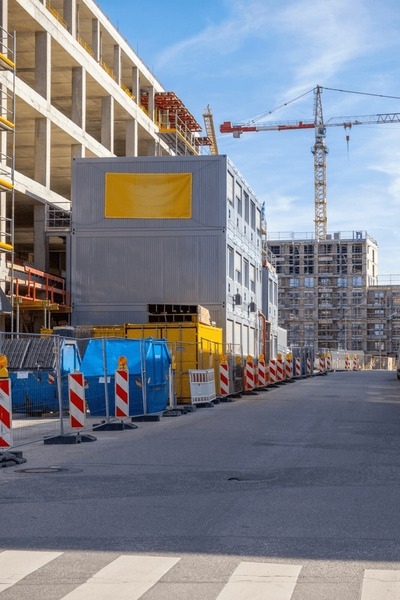Barrier: (32, 302, 344, 431)
